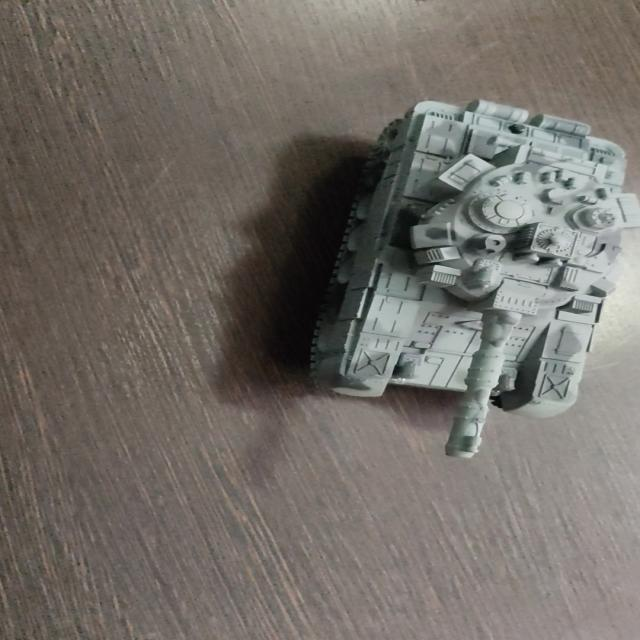tank: (305, 101, 632, 456)
